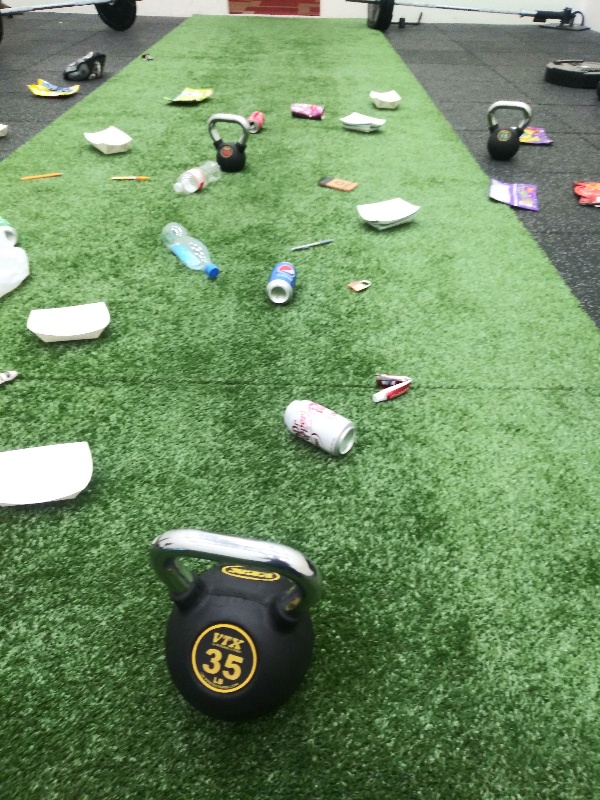bag: (484, 174, 540, 213), (25, 77, 84, 101), (508, 120, 555, 149), (162, 85, 218, 106), (572, 177, 600, 215)
bottle: (156, 222, 224, 280), (170, 157, 222, 198)
can: (280, 397, 361, 458), (257, 259, 300, 310), (286, 101, 328, 123), (243, 107, 267, 135), (1, 215, 20, 248)
plate: (1, 435, 104, 518), (24, 298, 111, 349), (348, 195, 426, 232), (81, 123, 135, 157), (330, 108, 390, 137), (366, 88, 404, 112)
